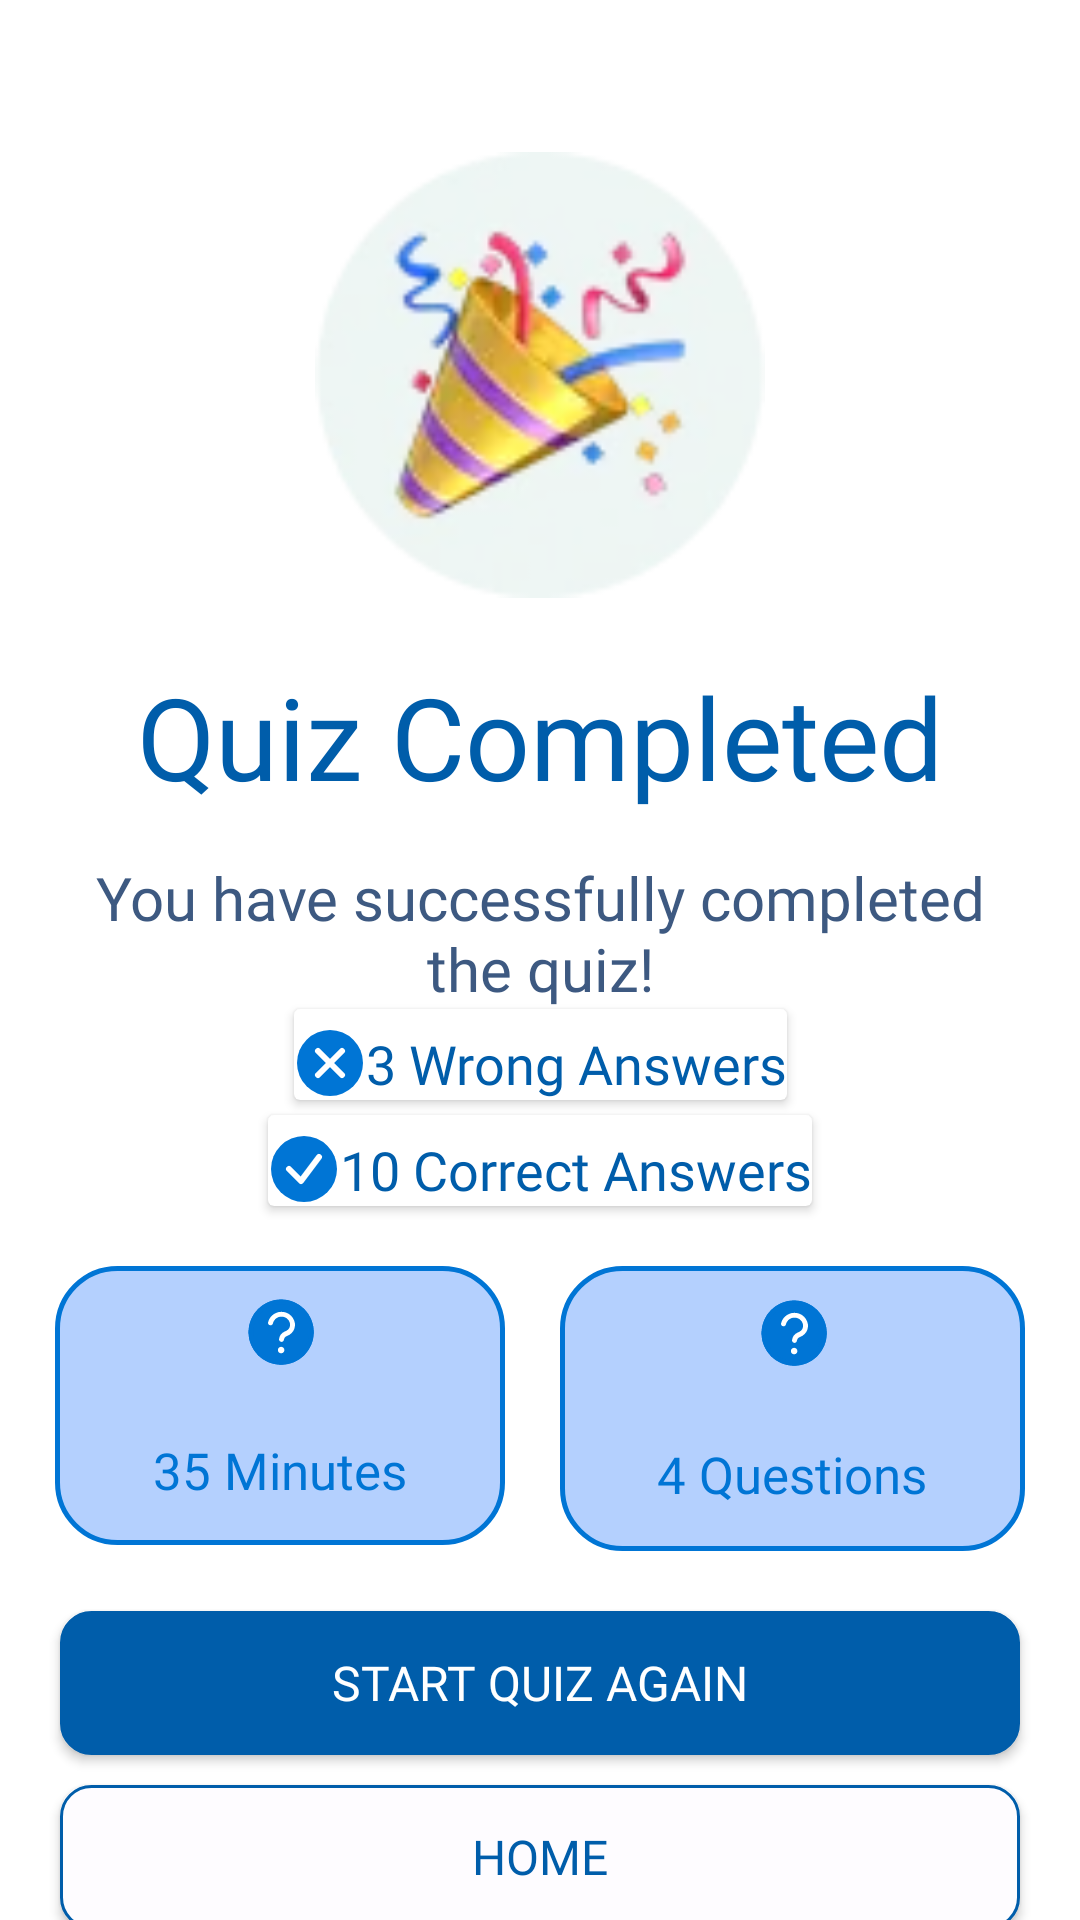

Named icons in this screenshot (1080px×1920px) and their bounding boxes, BBox(x1, y1, x2, y2):
check circle: BBox(271, 1136, 337, 1202)
close circle: BBox(297, 1030, 363, 1096)
